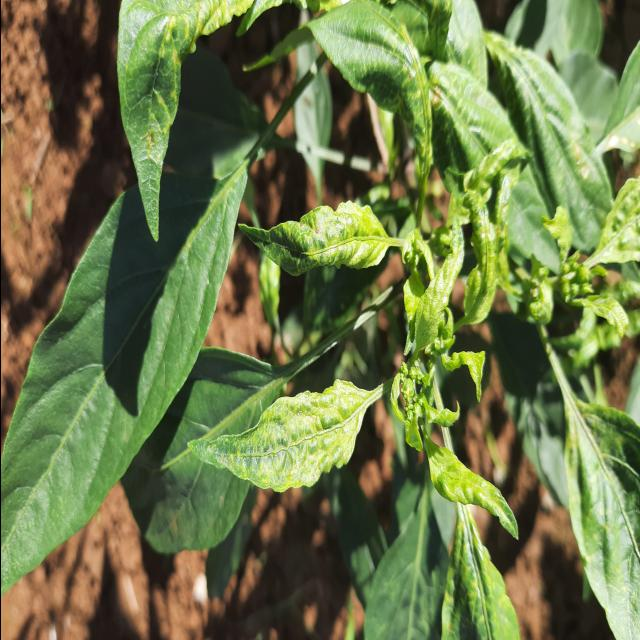thrips: (188, 350, 370, 498)
